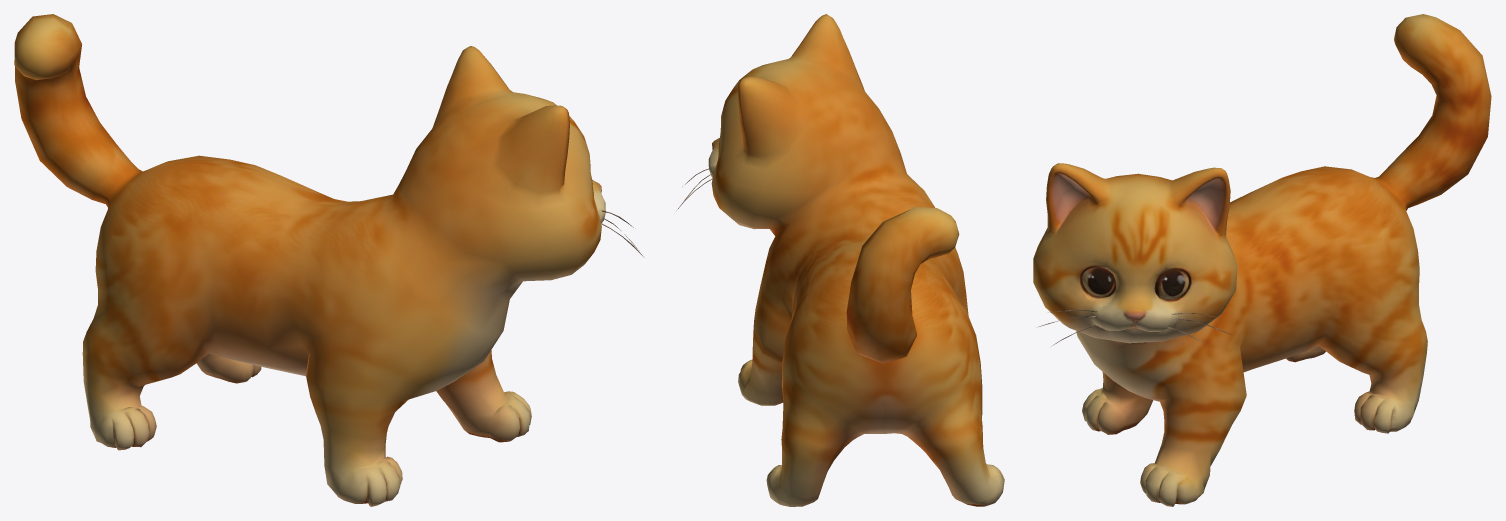
3 renders of one model, left to right at view 1: azimuth 30°, elevation 25°; view 2: azimuth 150°, elevation 25°; view 3: azimuth 270°, elevation 25°, orthographic. The views are drawn at different scales.
Visible parts, largest first — view 1: tripo_node_f565b4dd; view 2: tripo_node_f565b4dd; view 3: tripo_node_f565b4dd.
Part boxes in pixels (x1,y1,x2,y2): tripo_node_f565b4dd: (14,14,644,506); tripo_node_f565b4dd: (676,14,1004,506); tripo_node_f565b4dd: (1033,14,1491,506).
Size of the model in its own units: 0.9551 by 0.8301 by 0.998.
Materials: 1 (1 with a texture image).
